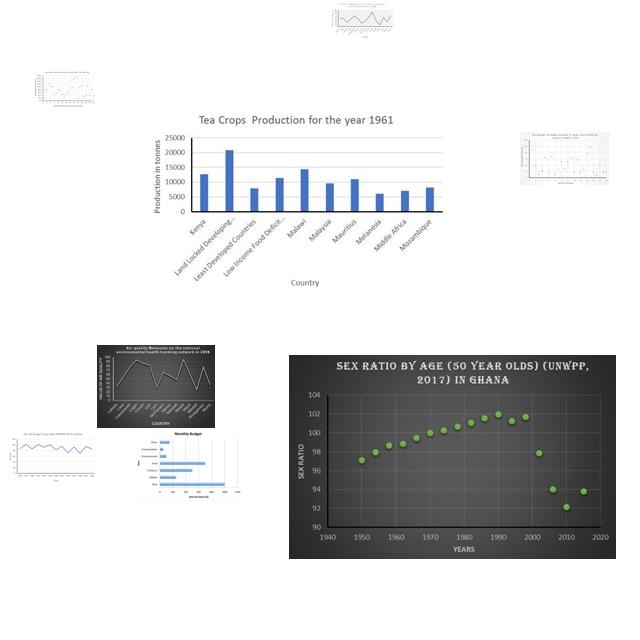Graph: (289, 355, 616, 559), (145, 108, 446, 289), (97, 345, 215, 428), (134, 430, 242, 501), (520, 132, 609, 185), (8, 431, 97, 483), (330, 2, 394, 39), (34, 71, 95, 108)
